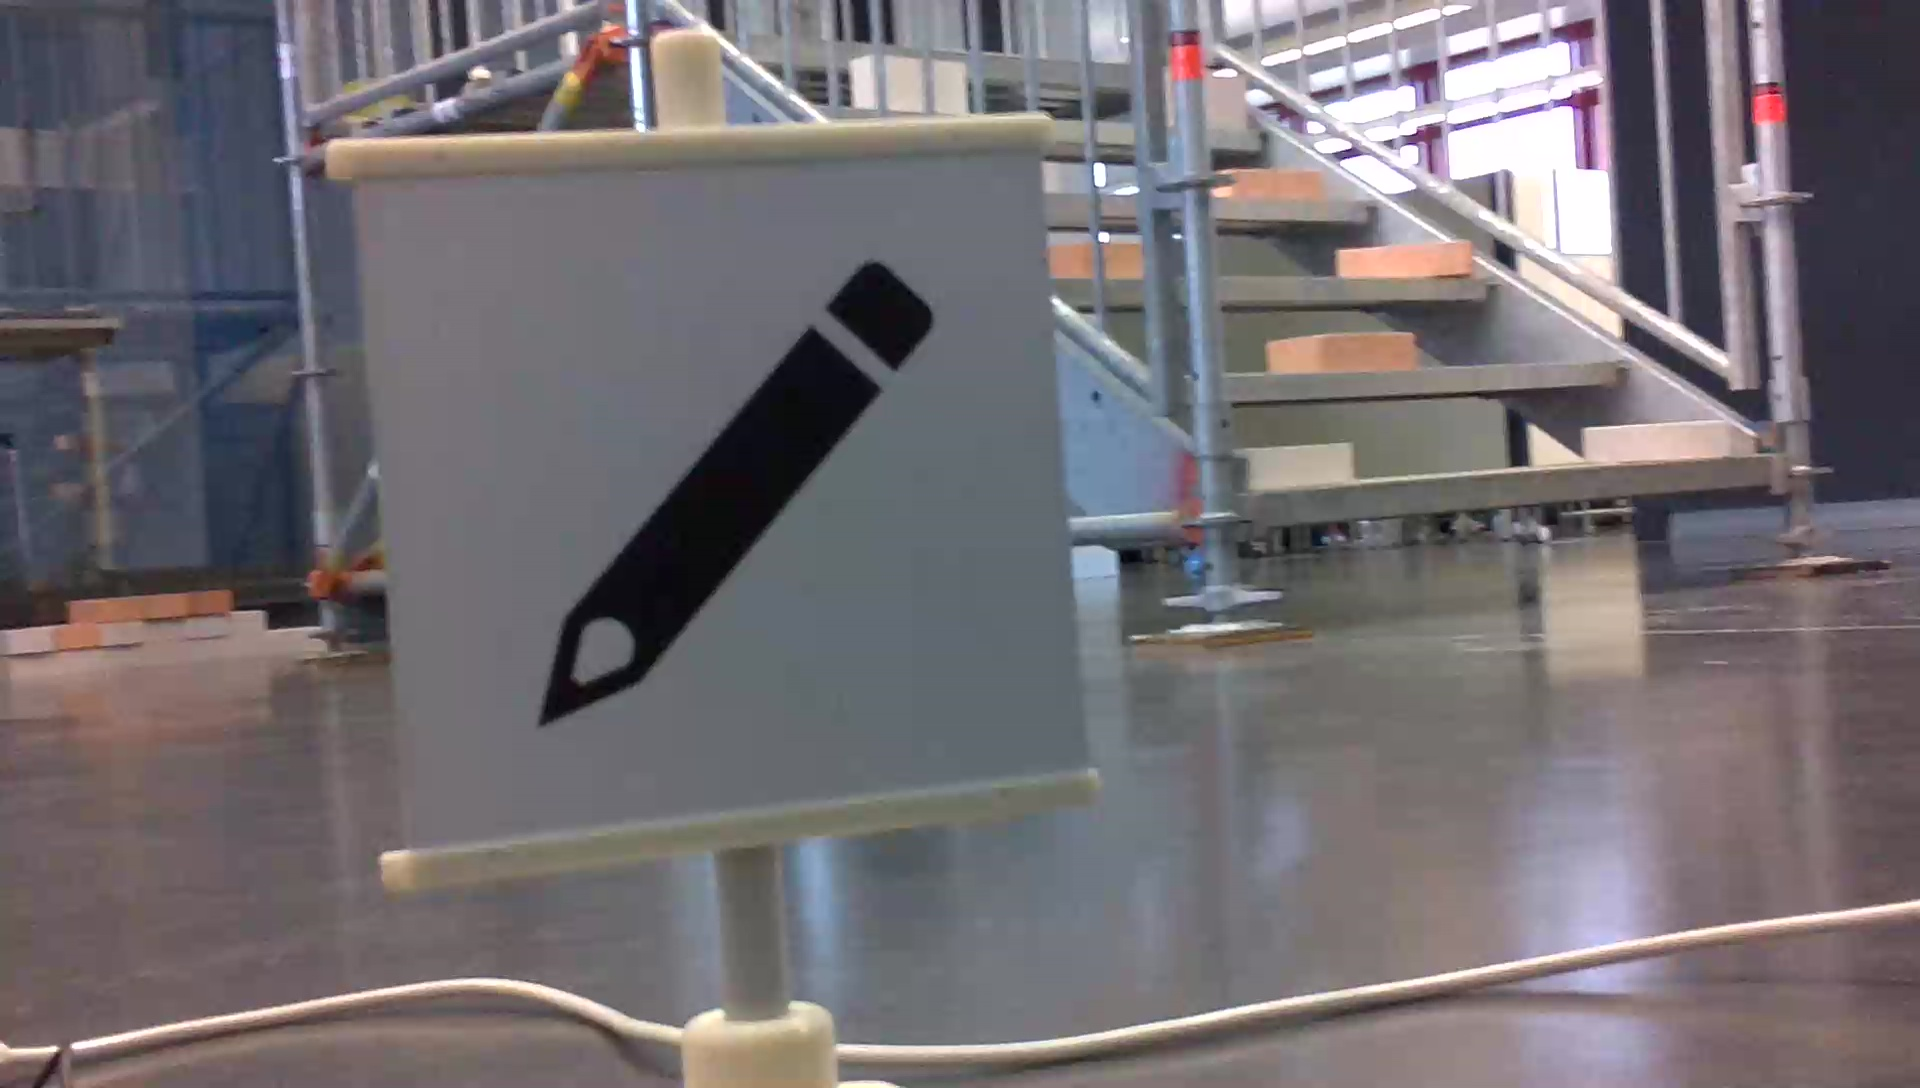brick: (1269, 330, 1411, 372), (1582, 421, 1725, 460), (1245, 440, 1349, 489), (1342, 239, 1469, 276), (1222, 167, 1323, 200), (1203, 76, 1242, 129)
edge: (1250, 455, 1770, 525), (1222, 360, 1625, 400)
pencil: (516, 243, 953, 742)
stairs: (1122, 5, 1887, 650)
